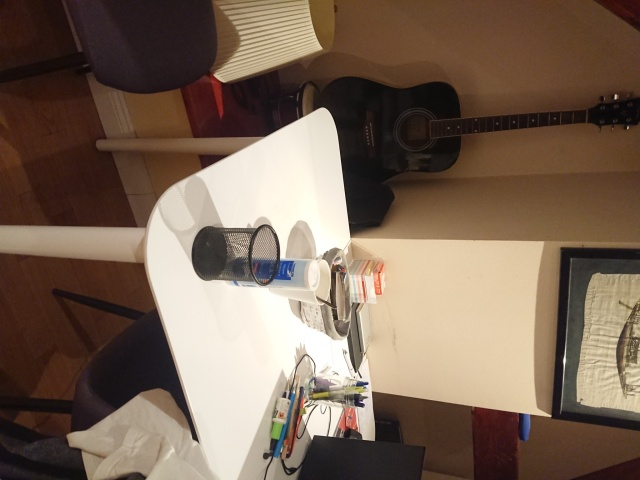Solana Pag Fine Sea Salt 250g: (220, 255, 323, 293)
